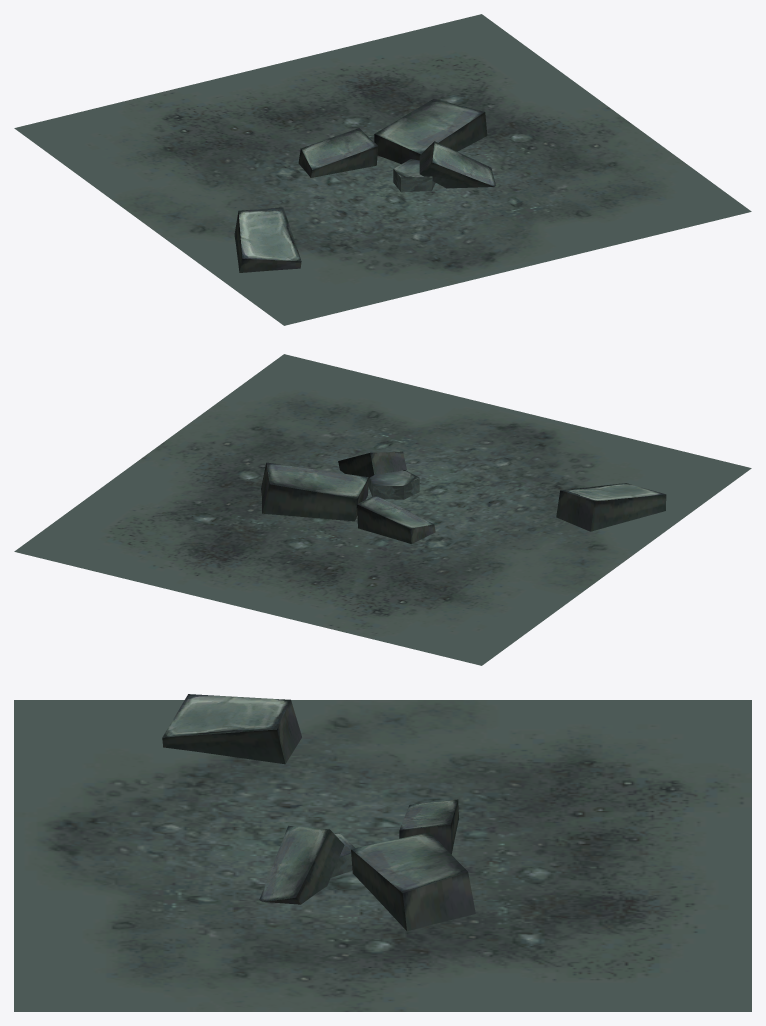
The model's file is crypt_rubble_05.fbx.
3 views of the same model, one above another, from view 1: azimuth 30°, elevation 25°; view 2: azimuth 150°, elevation 25°; view 3: azimuth 270°, elevation 25° (orthographic). The views are drawn at different scales.
Visible parts, largest first — view 1: obj2.006; view 2: obj2.006; view 3: obj2.006.
Part boxes in pixels (left/top/right/bottom): obj2.006: left=14, top=14, right=751, bottom=325; obj2.006: left=14, top=354, right=751, bottom=665; obj2.006: left=14, top=694, right=751, bottom=1011.
Size of the model in its own units: 4 by 0.4565 by 4.
